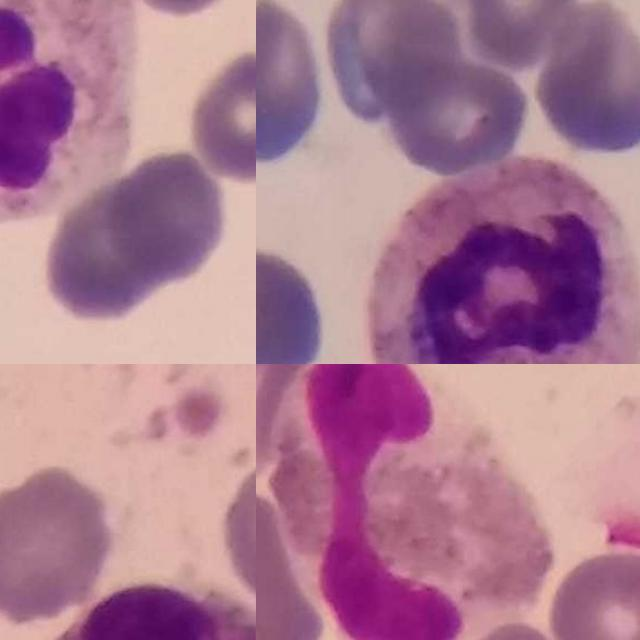Eosinophil: (278, 364, 554, 640)
Neutrophil: (370, 162, 640, 364), (0, 0, 131, 222)
